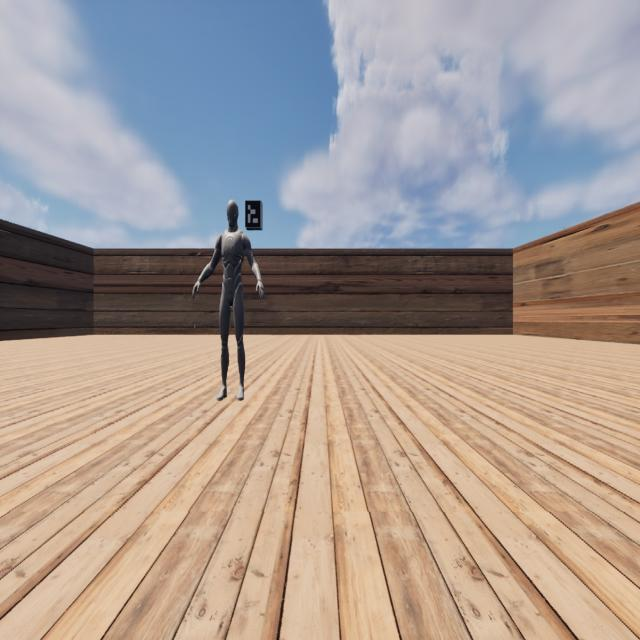aruco: (246, 200, 260, 228)
hip: (222, 282, 242, 291)
